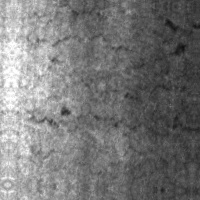crazing: (33, 31, 175, 151), (28, 9, 148, 74), (28, 142, 193, 188)
